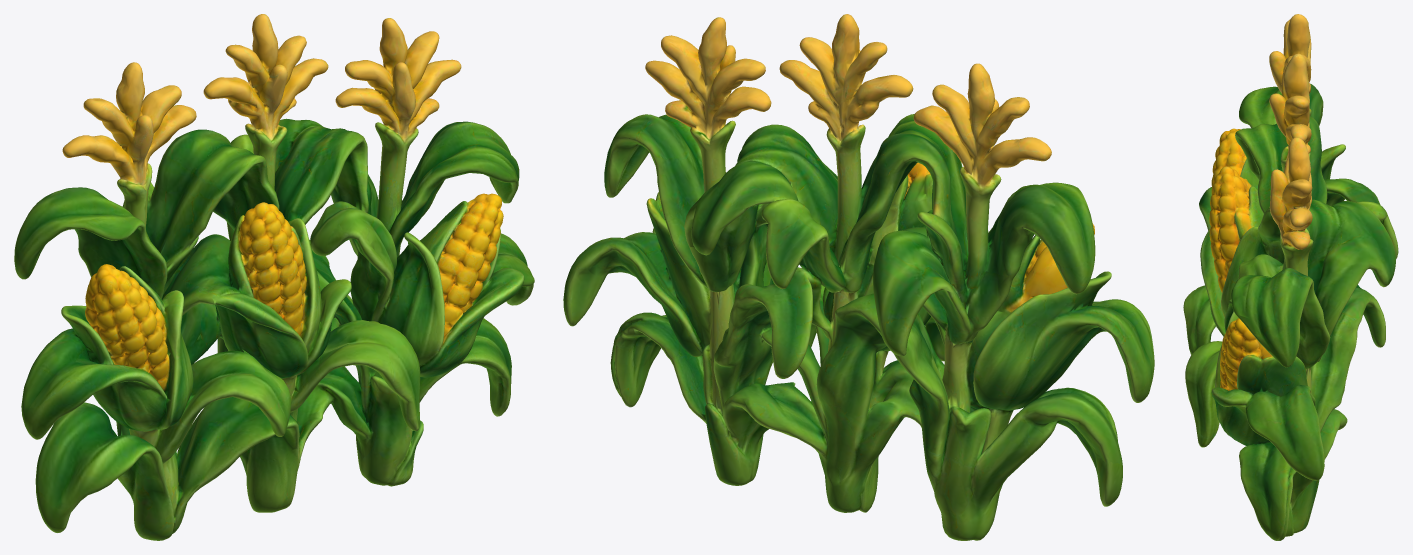
Rendered from corn-mature.glb.
3 renders of one model, left to right at view 1: azimuth 30°, elevation 25°; view 2: azimuth 150°, elevation 25°; view 3: azimuth 270°, elevation 25°, orthographic. The views are drawn at different scales.
Bounding box in the file's own units: 1.9 × 1.66 × 0.7548.
Materials: 1 (1 with a texture image).
